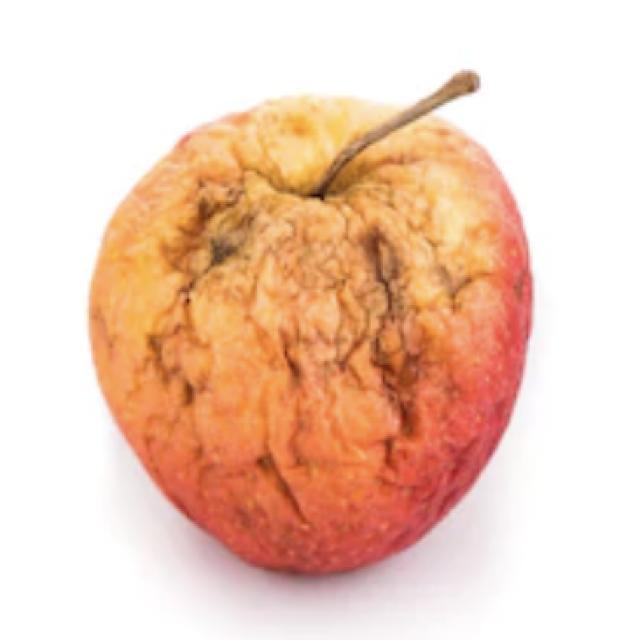Rotten: (105, 95, 553, 567)
